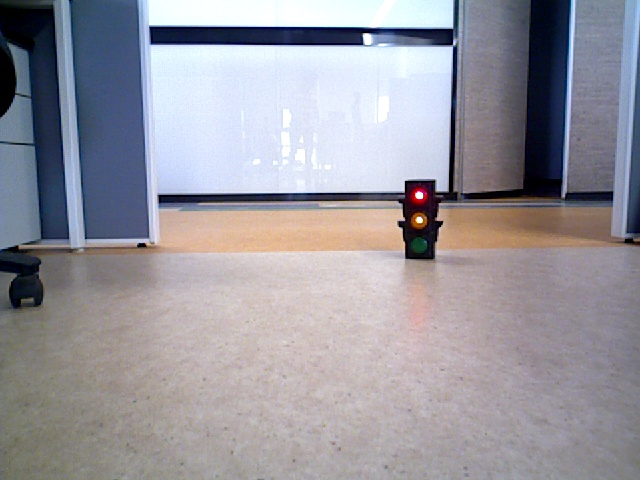red: (405, 182, 432, 257)
